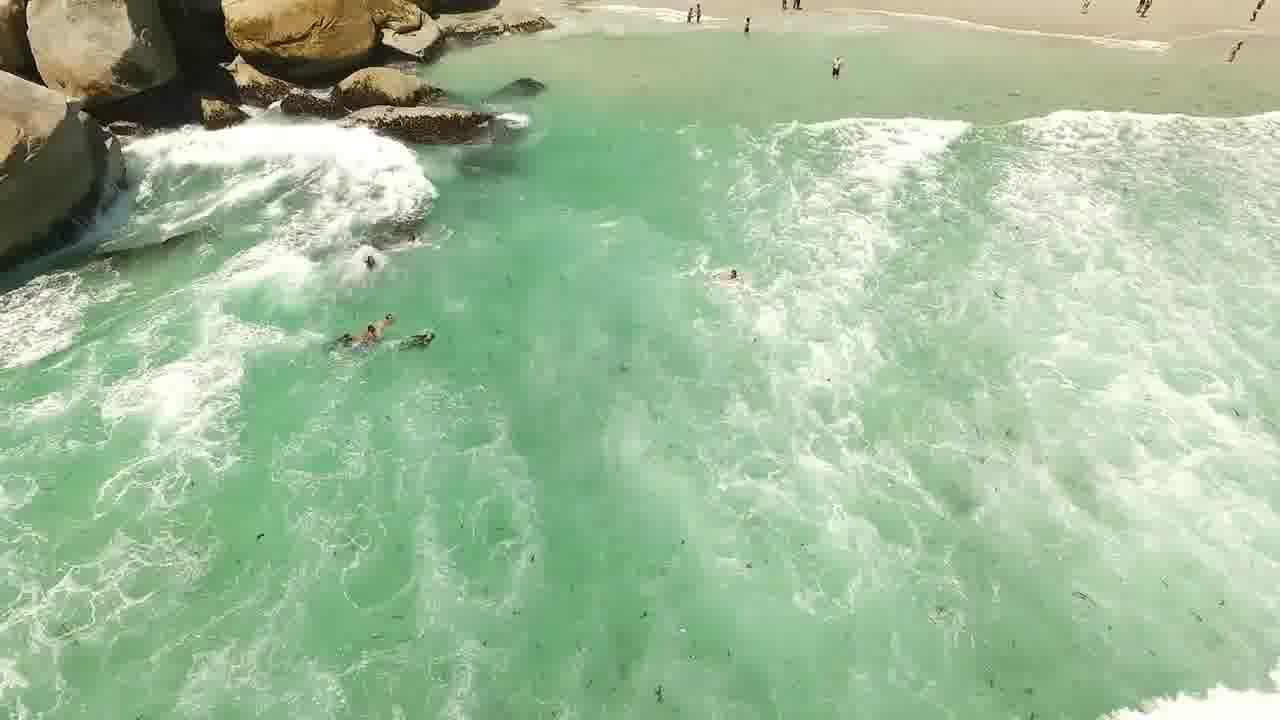human: (712, 252, 752, 293), (819, 48, 860, 88), (1212, 31, 1256, 68), (407, 308, 442, 352), (730, 14, 772, 44), (354, 245, 384, 271), (373, 298, 398, 325), (678, 4, 711, 24), (352, 313, 374, 341)
